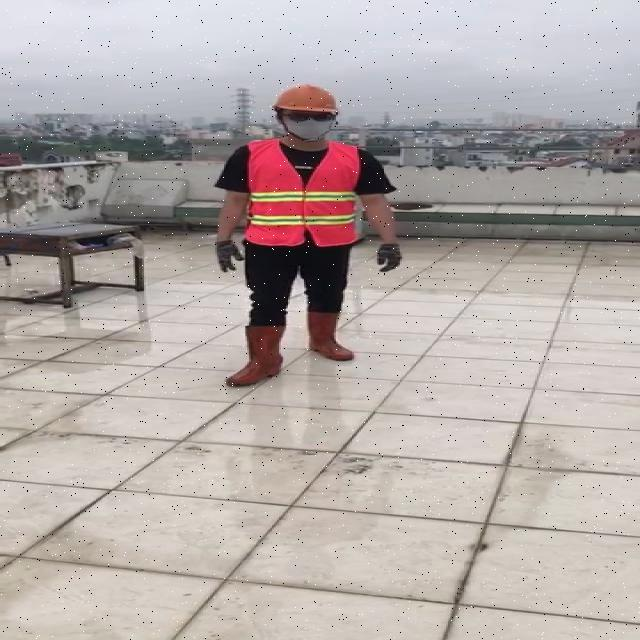Hard_hat: (270, 82, 346, 122)
Vest: (246, 138, 365, 251)
